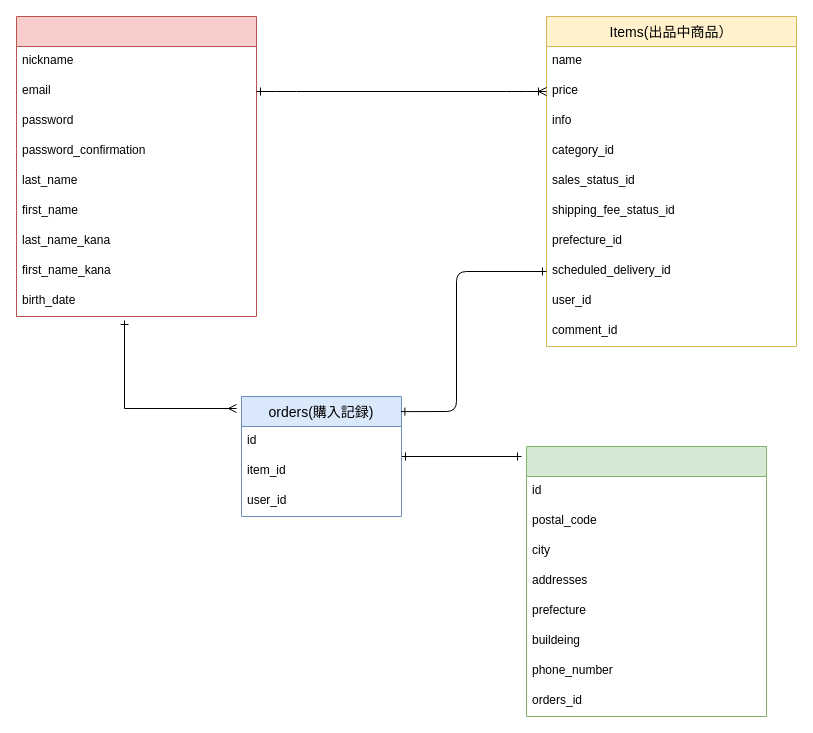
Some shapes in this 813 by 733 pixel diagram are drawn without their labels. Each missing label, with the box of its shape:
pay_forms(支払い情報): (526, 446, 766, 716)
Users: (16, 16, 256, 316)
